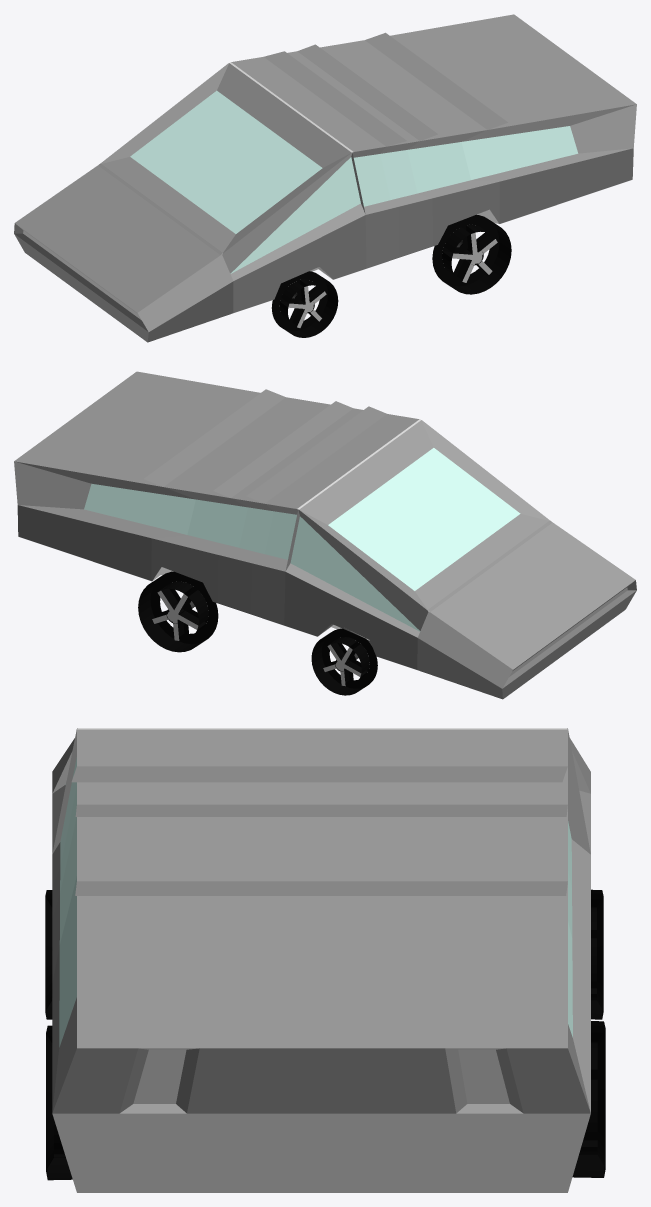
File: car2.fbx
3 renders of one model, top to bottom at view 1: azimuth 30°, elevation 25°; view 2: azimuth 150°, elevation 25°; view 3: azimuth 270°, elevation 25°, orthographic. The views are drawn at different scales.
Visible parts, largest first — view 1: Cube; view 2: Cube; view 3: Cube.
Boxes of the visible parts, bbox=[...] form: Cube: bbox=[14, 14, 636, 342]; Cube: bbox=[14, 371, 636, 699]; Cube: bbox=[45, 728, 605, 1192].
Bounding box in the file's own units: 5.61 × 1.79 × 2.73.
